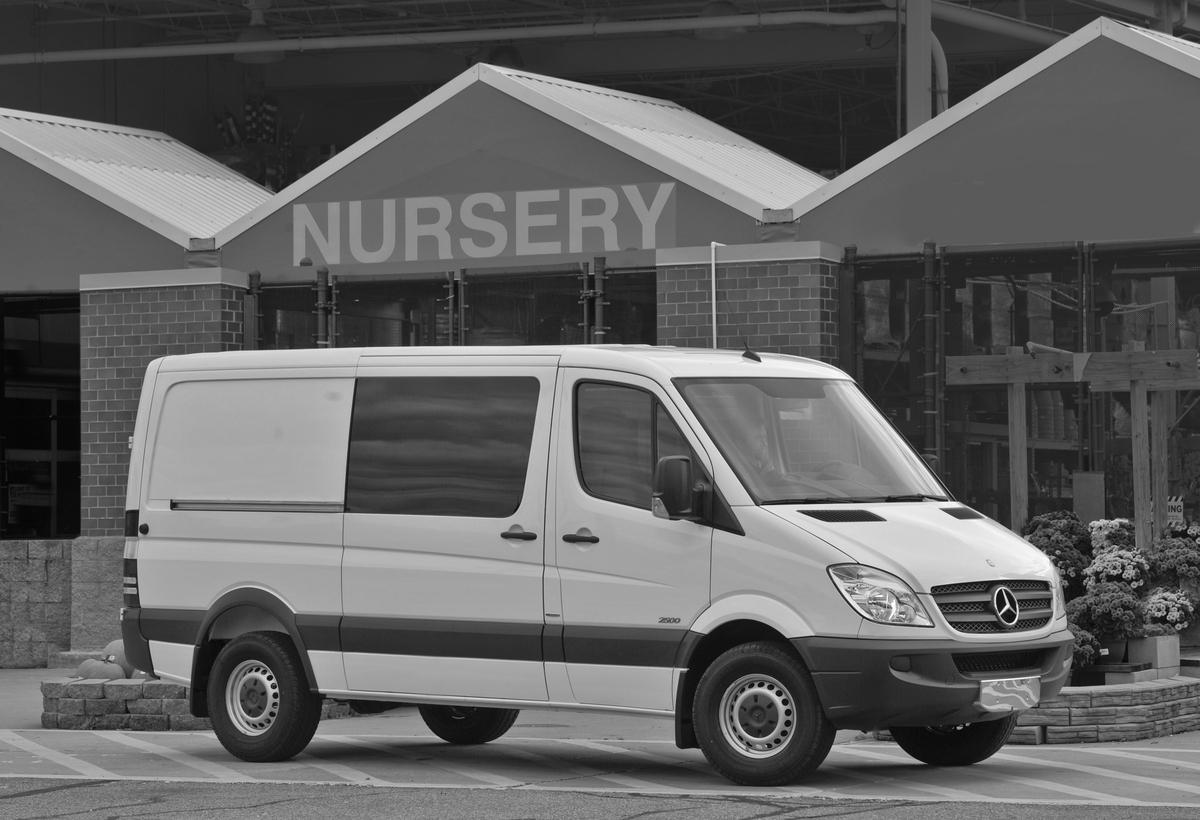car: (120, 286, 1073, 790)
